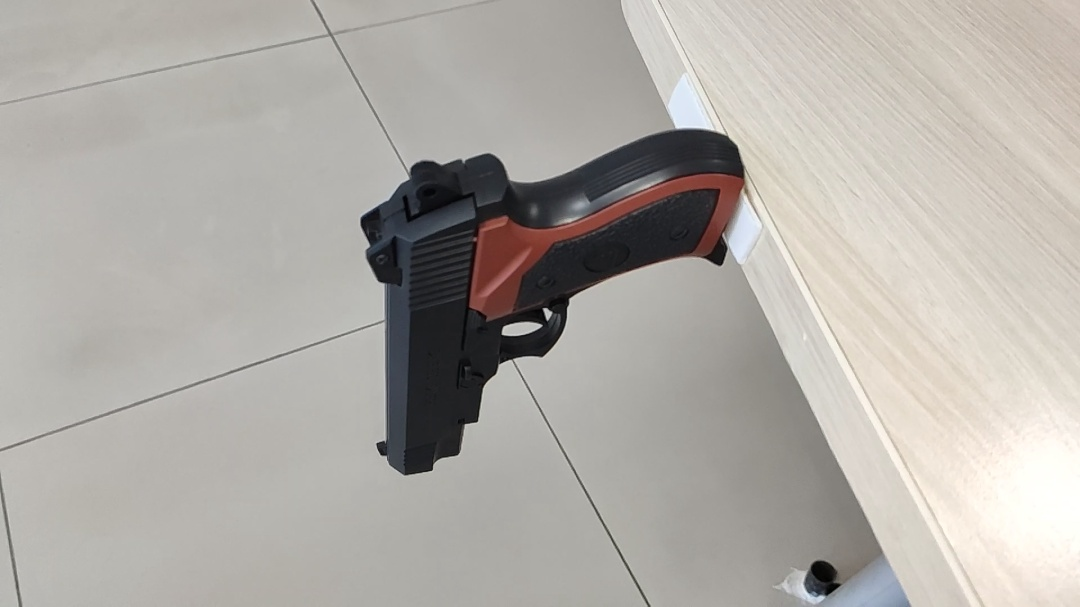gun: (584, 197, 860, 338)
